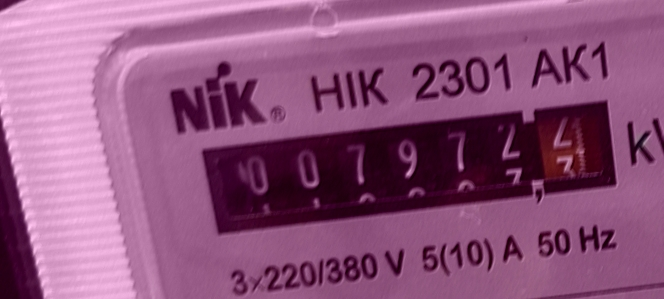0: (241, 154, 272, 197), (293, 147, 321, 191)
2: (494, 122, 522, 163), (546, 116, 572, 152)
3: (552, 153, 577, 181)
7: (442, 128, 473, 177), (342, 141, 371, 188)
9: (393, 136, 420, 181)
screen: (183, 88, 635, 252)
